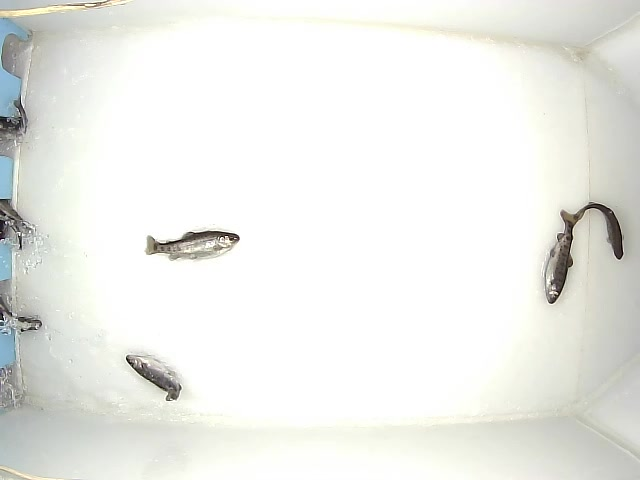fish: (544, 209, 581, 304), (574, 202, 624, 260), (146, 231, 240, 261), (125, 354, 182, 401)
